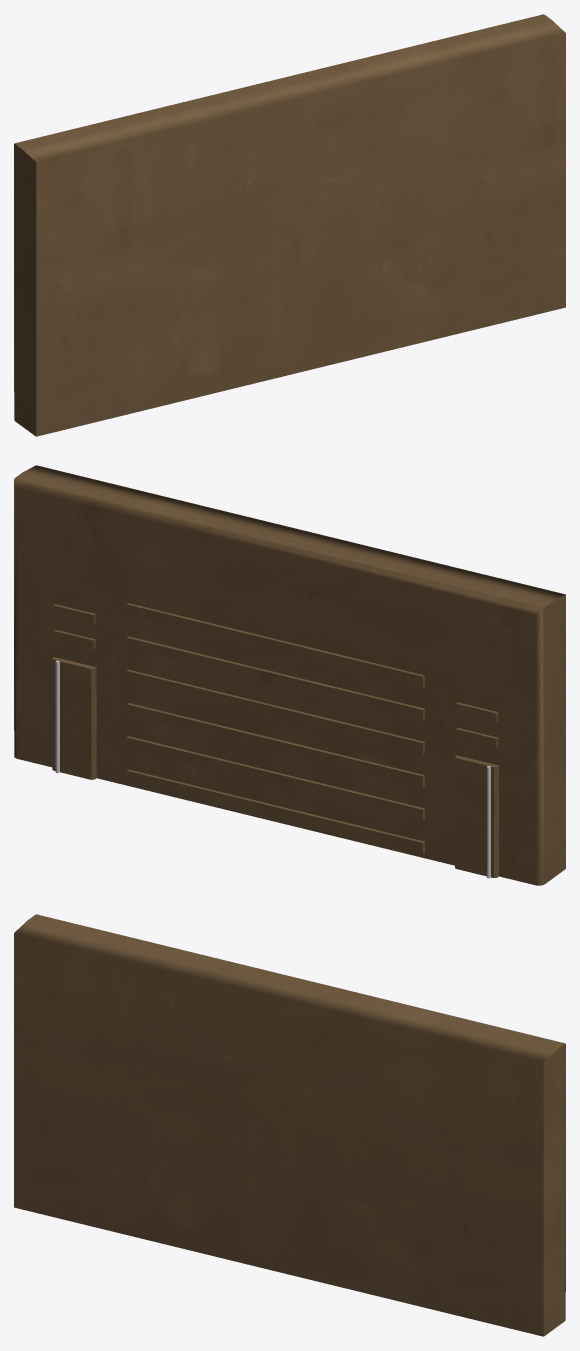
File: SM_Building01WallRoof01R.fbx
3 renders of one model, top to bottom at view 1: azimuth 30°, elevation 25°; view 2: azimuth 150°, elevation 25°; view 3: azimuth 330°, elevation 25°, orthographic.
Parts seen in each view (by area): view 1: SM_Building01WallRoof01R_LOD0; view 2: SM_Building01WallRoof01R_LOD0; view 3: SM_Building01WallRoof01R_LOD0.
Boxes of the visible parts, left/top/right/bottom form: SM_Building01WallRoof01R_LOD0: left=14, top=14, right=565, bottom=436; SM_Building01WallRoof01R_LOD0: left=14, top=465, right=565, bottom=885; SM_Building01WallRoof01R_LOD0: left=14, top=914, right=565, bottom=1336.
Bounding box in the file's own units: 500 × 47.65 × 250.
3 materials, 2 textured.
